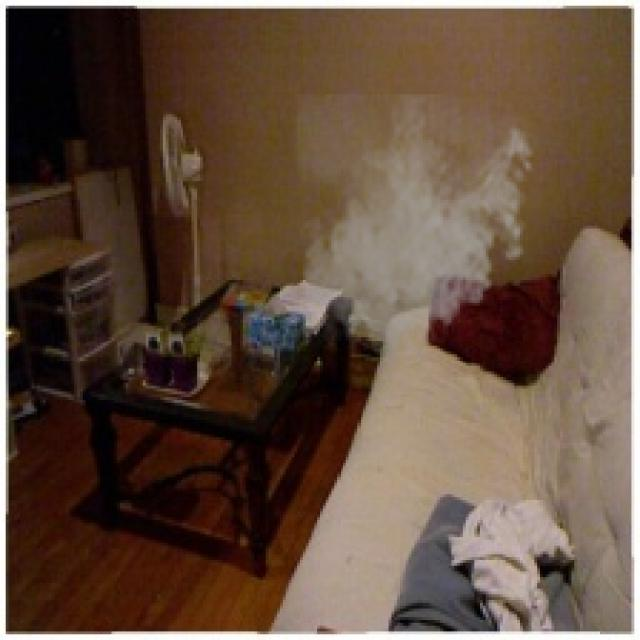smoke: (294, 94, 540, 363)
